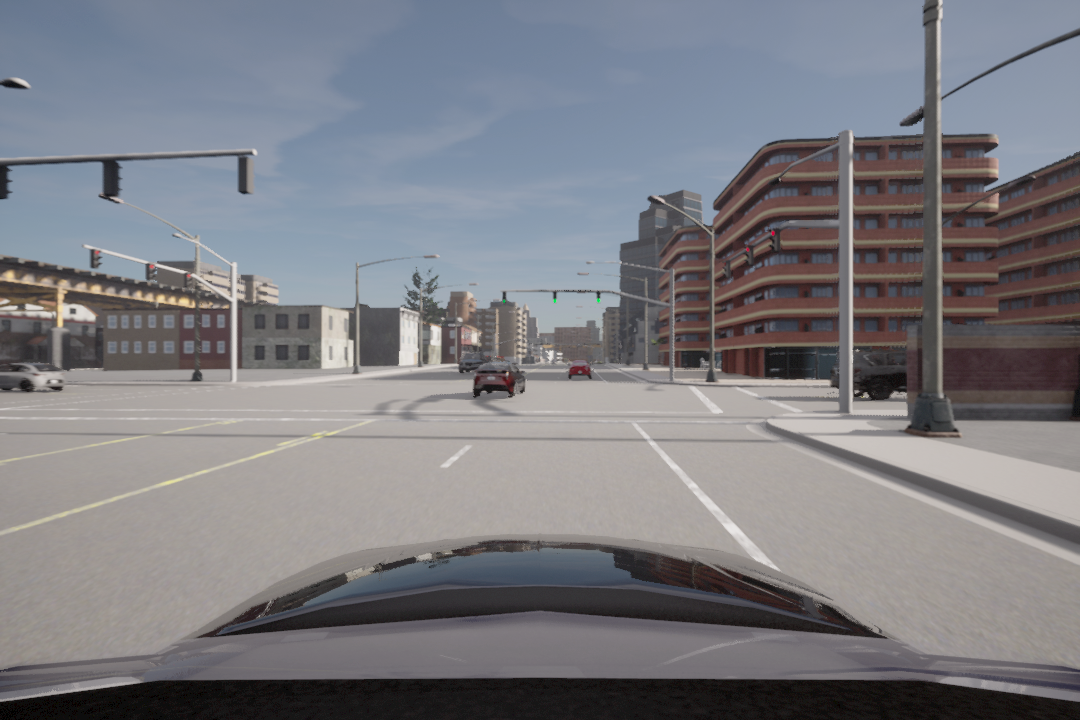TrafficLight: (87, 247, 102, 270), (769, 227, 781, 254), (721, 257, 733, 280), (744, 244, 755, 266), (146, 261, 157, 281), (551, 288, 559, 305), (184, 271, 191, 289), (595, 290, 601, 306), (501, 289, 506, 304)
